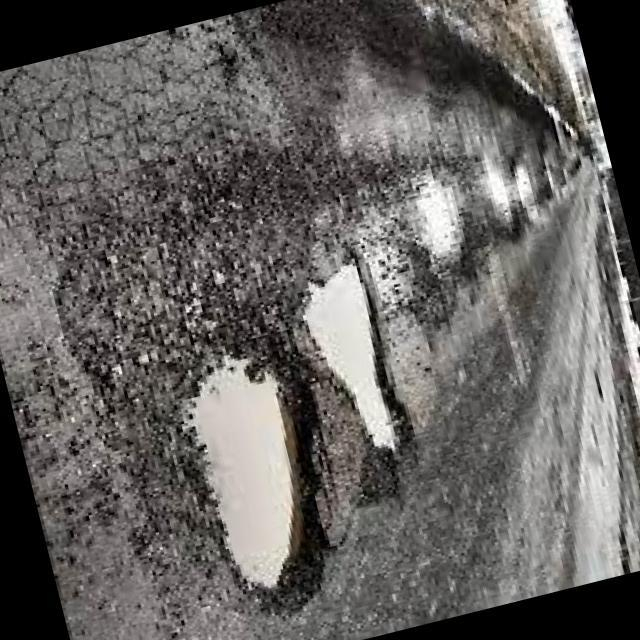pothole: (146, 326, 363, 632), (298, 255, 426, 476), (396, 162, 492, 308), (470, 140, 520, 247)
